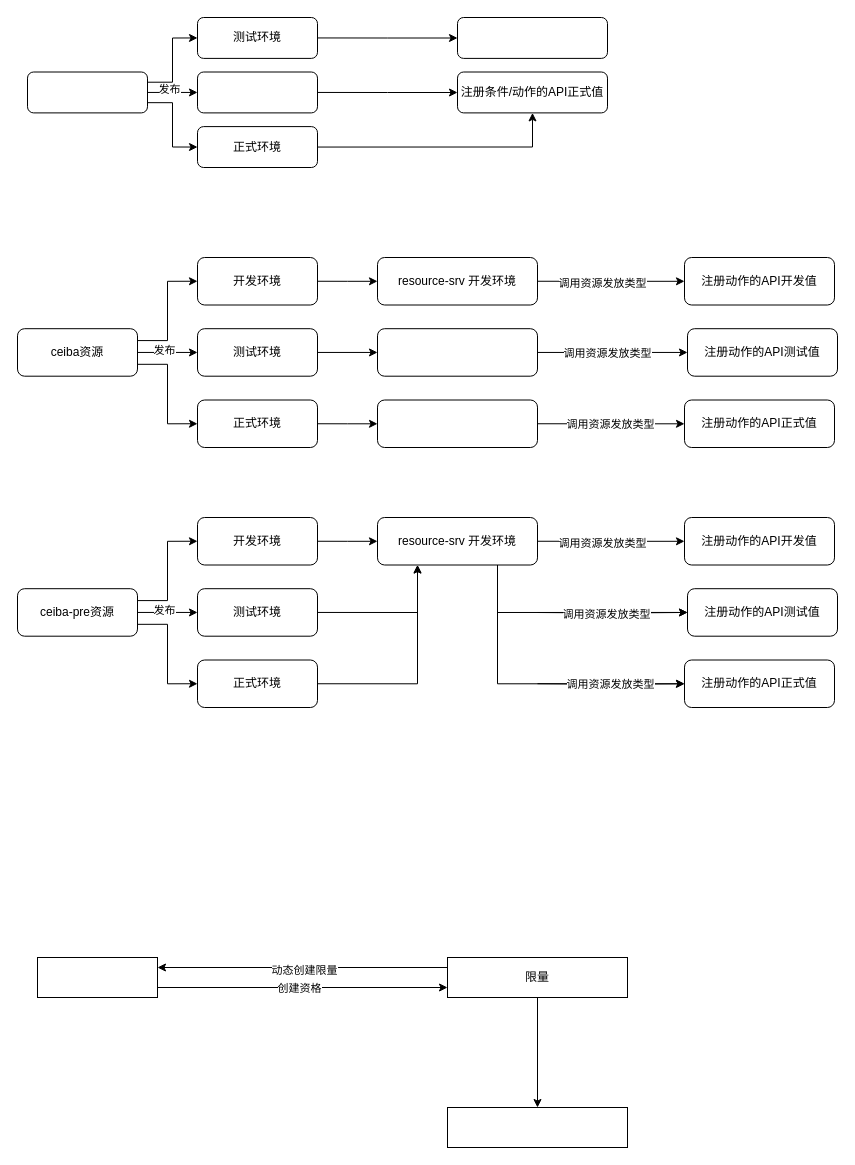
The diagram is 855 pixels wide and 1165 high, and some of its shapes have lost their labels. Each missing label, with the centre of its shape:
"ceiba活动" goes at point 87,92.
"resource-srv 正式环境" goes at point 457,423.
"resource-srv 预发布环境" goes at point 457,352.
"注册条件/动作的API测试值" goes at point 532,37.
"物品管理-资格限量" goes at point 97,977.
"资源发放" goes at point 537,1127.
"预发布（灰度）" goes at point 257,92.
